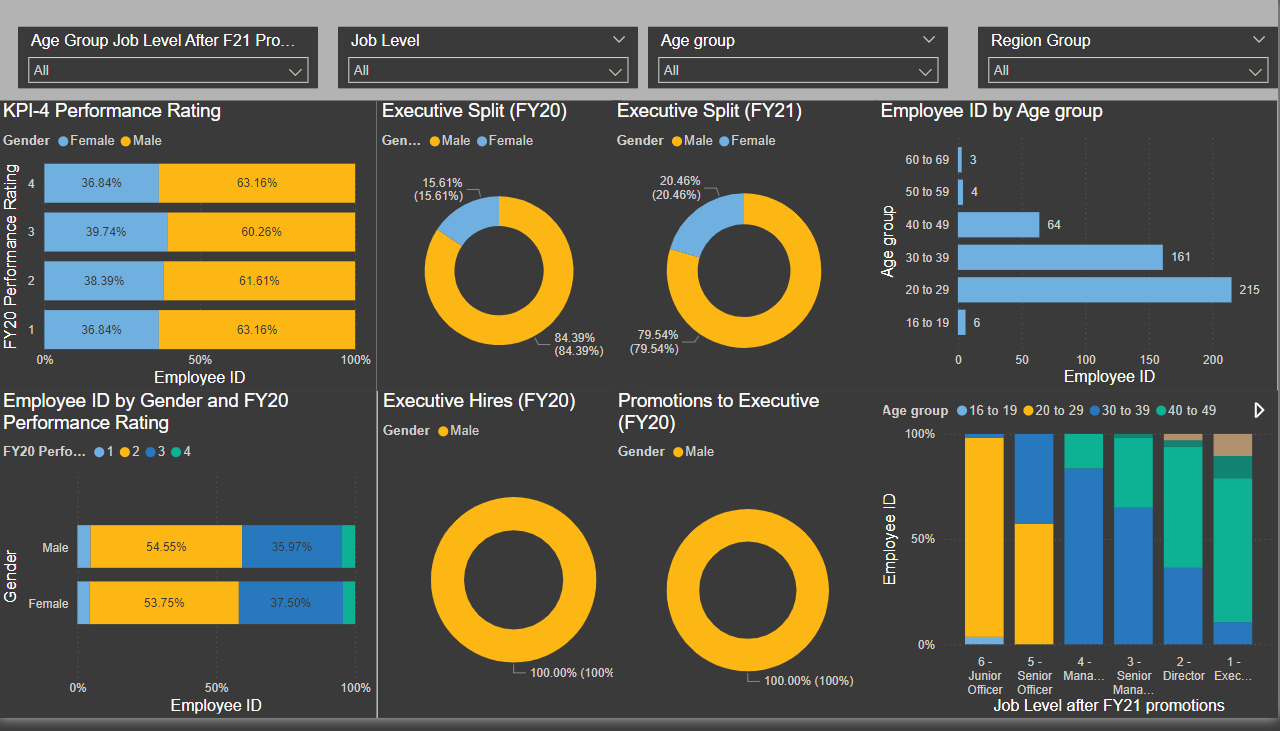

The dashboard page shown, as its layout file describes it:
{"tool":"powerbi","page":{"name":"HR MANAGER 2","canvas":[1280,720],"ordinal":1},"visuals":[{"type":"slicer","fields":{"Values":["HR Manager.Job Level after FY20 promotions"]},"box":[20,28.8,300,61.7],"z":0,"group":"g4"},{"type":"hundredPercentStackedBarChart","title":"KPI-4 Performance Rating","fields":{"Category":["HR Manager.FY20 Performance Rating"],"Y":["CountNonNull(HR Manager.Employee ID)"],"Series":["HR Manager.Gender"]},"box":[0,102.1,378.3,290.2],"z":0,"group":"g3"},{"type":"donutChart","title":"Executive Split (FY20)","fields":{"Category":["HR Manager.Gender"],"Y":["Sum(HR Manager.Employee ID)"]},"box":[378.3,102.1,245,290.2],"z":0,"group":"g2"},{"type":"clusteredBarChart","fields":{"Y":["CountNonNull(HR Manager.Employee ID)"],"Category":["HR Manager.Age group"]},"box":[877.8,102.7,401.7,290],"z":0,"group":"g1"},{"type":"slicer","fields":{"Values":["HR Manager.Last Department in FY20","HR Manager.Department @01.07.2020"]},"box":[340,28.8,300,61.7],"z":1000,"group":"g4"},{"type":"hundredPercentStackedBarChart","fields":{"Category":["HR Manager.Gender"],"Series":["HR Manager.FY20 Performance Rating"],"Y":["CountNonNull(HR Manager.Employee ID)"]},"box":[0,392.3,378.3,328.2],"z":1000,"group":"g3"},{"type":"donutChart","title":"Executive Hires (FY20)","fields":{"Category":["HR Manager.Gender"],"Y":["Divide(CountNonNull(HR Manager.Employee ID), ScopedEval(CountNonNull(HR Manager.Employee ID), []))"]},"box":[379.4,392.7,271.7,328.3],"z":1000,"group":"g2"},{"type":"hundredPercentStackedColumnChart","fields":{"Category":["HR Manager.Job Level after FY21 promotions"],"Series":["HR Manager.Age group"],"Y":["CountNonNull(HR Manager.Employee ID)"]},"box":[879.5,392.7,401.7,328.3],"z":1000,"group":"g1"},{"type":"slicer","fields":{"Values":["HR Manager.Age group"]},"box":[650,28.8,300,61.7],"z":2000,"group":"g4"},{"type":"donutChart","title":"Executive Split (FY21)","fields":{"Category":["HR Manager.Gender"],"Y":["Sum(HR Manager.Employee ID)"]},"box":[612.7,102.7,265,290],"z":2000,"group":"g2"},{"type":"slicer","fields":{"Values":["HR Manager.Broad region group: nationality 1"]},"box":[980,28.8,300,61.7],"z":3000,"group":"g4"},{"type":"donutChart","title":"Promotions to Executive (FY20)","fields":{"Category":["HR Manager.Gender"],"Y":["Divide(CountNonNull(HR Manager.Employee ID), ScopedEval(CountNonNull(HR Manager.Employee ID), []))"]},"box":[614.4,392.7,270,328.3],"z":3000,"group":"g2"},{"type":"group","id":"g1","title":"Group 1","box":[877.8,102.7,403.3,618.3],"z":4000,"group":"g4"},{"type":"group","id":"g2","title":"Group 2","box":[378.3,102.1,506.1,618.9],"z":5000,"group":"g4"},{"type":"group","id":"g3","title":"Group 3","box":[0,102.1,378.3,618.3],"z":6000,"group":"g4"},{"type":"group","id":"g4","title":"Group 4","box":[0,28.8,1281.7,691.6],"z":6001}]}

Visuals, with their boxes in screenshot pixels (x1, y1, x2, y2), scaled from the page's 1280x720 canvas onto the 1280x731 screenshot:
slicer - HR Manager.Job Level after FY20 promotions: <bbox>20, 29, 320, 92</bbox>
"KPI-4 Performance Rating" hundredPercentStackedBarChart: <bbox>0, 104, 378, 398</bbox>
"Executive Split (FY20)" donutChart: <bbox>378, 104, 623, 398</bbox>
clusteredBarChart - CountNonNull(HR Manager.Employee ID) x HR Manager.Age group: <bbox>878, 104, 1279, 399</bbox>
slicer - HR Manager.Last Department in FY20 x HR Manager.Department @01.07.2020: <bbox>340, 29, 640, 92</bbox>
hundredPercentStackedBarChart - HR Manager.Gender x HR Manager.FY20 Performance Rating: <bbox>0, 398, 378, 730</bbox>
"Executive Hires (FY20)" donutChart: <bbox>379, 399, 651, 730</bbox>
hundredPercentStackedColumnChart - HR Manager.Job Level after FY21 promotions x HR Manager.Age group: <bbox>880, 399, 1279, 730</bbox>
slicer - HR Manager.Age group: <bbox>650, 29, 950, 92</bbox>
"Executive Split (FY21)" donutChart: <bbox>613, 104, 878, 399</bbox>
slicer - HR Manager.Broad region group: nationality 1: <bbox>980, 29, 1279, 92</bbox>
"Promotions to Executive (FY20)" donutChart: <bbox>614, 399, 884, 730</bbox>
"Group 1" group: <bbox>878, 104, 1279, 730</bbox>
"Group 2" group: <bbox>378, 104, 884, 730</bbox>
"Group 3" group: <bbox>0, 104, 378, 730</bbox>
"Group 4" group: <bbox>0, 29, 1279, 730</bbox>
